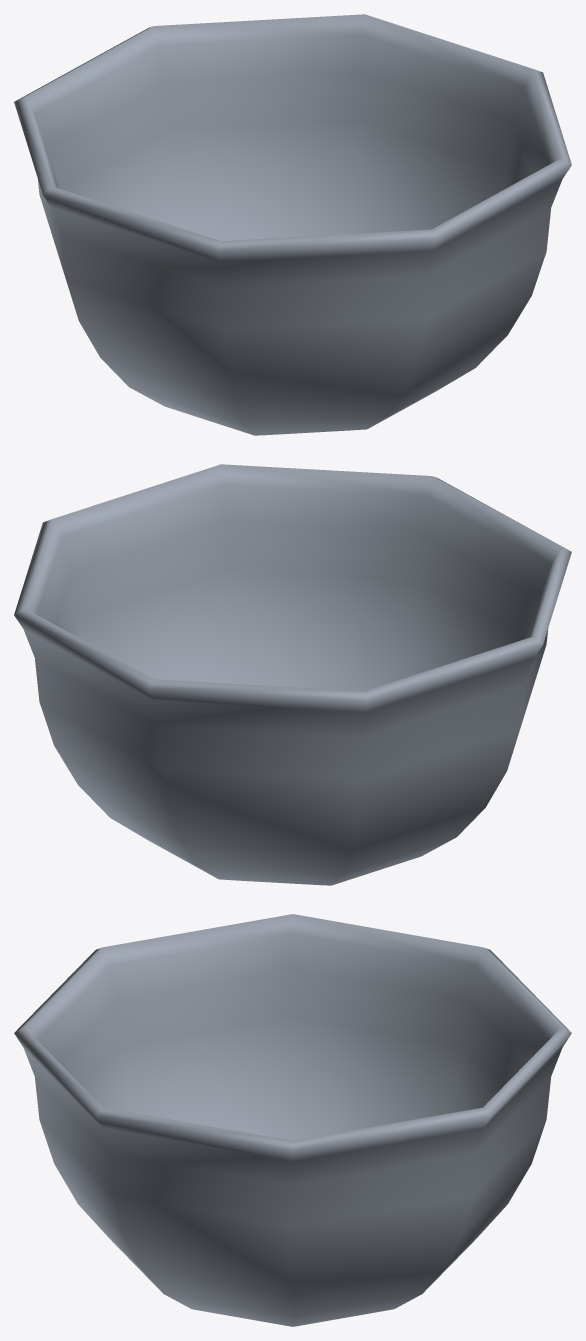
File: mbowl_mixing_bowl_007.glb
3 renders of one model, top to bottom at view 1: azimuth 30°, elevation 25°; view 2: azimuth 150°, elevation 25°; view 3: azimuth 270°, elevation 25°, orthographic. The views are drawn at different scales.
Visible parts, largest first — view 1: mbowl mixing bowl.007; view 2: mbowl mixing bowl.007; view 3: mbowl mixing bowl.007.
Boxes of the visible parts, x1,y1,x2,y2 form: mbowl mixing bowl.007: (14, 14, 571, 435); mbowl mixing bowl.007: (14, 464, 571, 885); mbowl mixing bowl.007: (14, 914, 571, 1326).
Bounding box in the file's own units: 3.1 × 1.65 × 3.1.
1 material, 1 textured.
